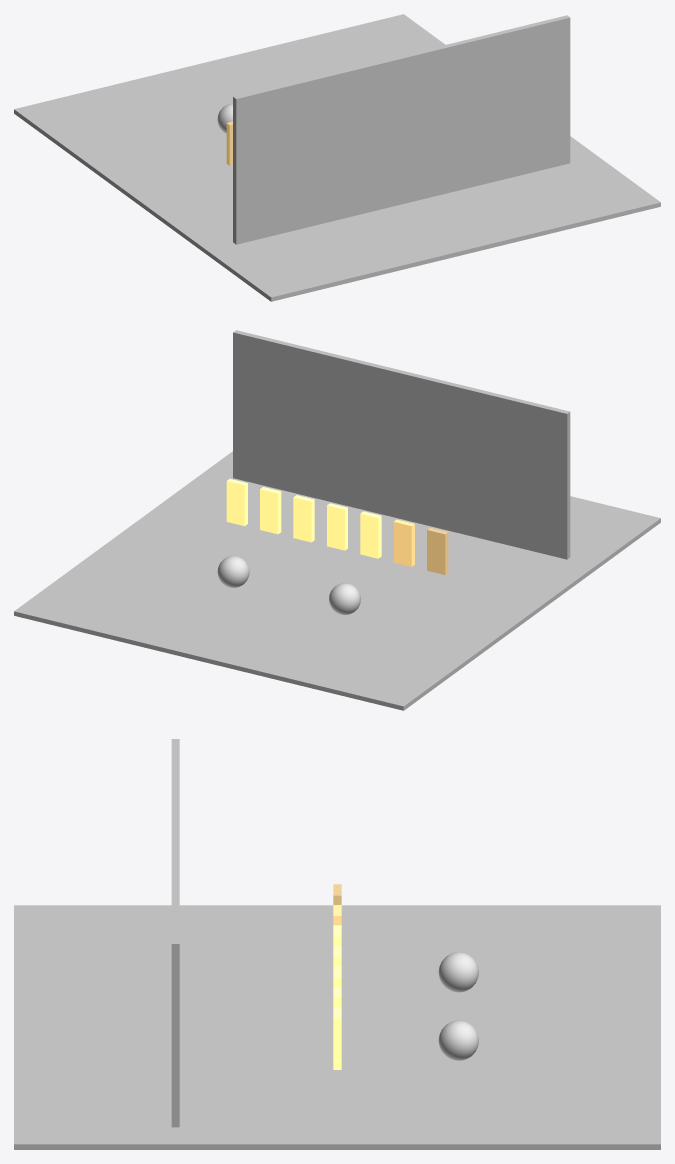
File: adaptation.gltf
The picture shows the model from 3 angles, top to bottom: view 1: azimuth 30°, elevation 25°; view 2: azimuth 150°, elevation 25°; view 3: azimuth 270°, elevation 25°; orthographic projection. The views are drawn at different scales.
Parts seen in each view (by area): view 1: Exhibit; view 2: Exhibit; view 3: Exhibit.
Boxes of the visible parts, left/top/right/bottom form: Exhibit: left=14, top=14, right=660, bottom=301; Exhibit: left=14, top=330, right=660, bottom=710; Exhibit: left=14, top=739, right=660, bottom=1149.
Size of the model in its own units: 14 by 5.15 by 16.
